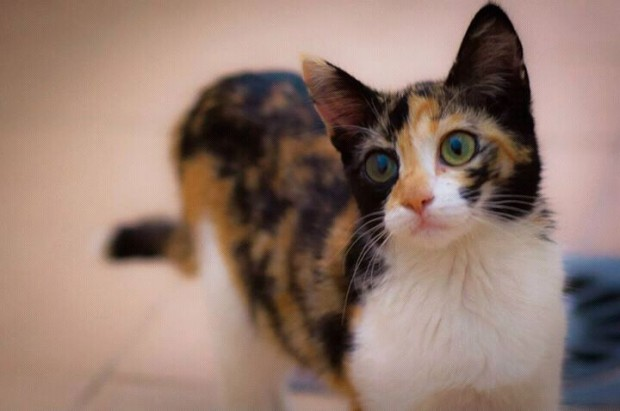cat: (113, 26, 581, 339)
